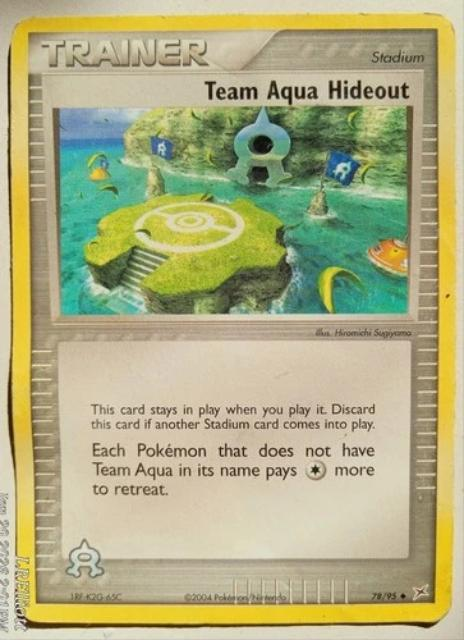Card: (5, 8, 463, 631)
Name: (201, 76, 416, 107)
